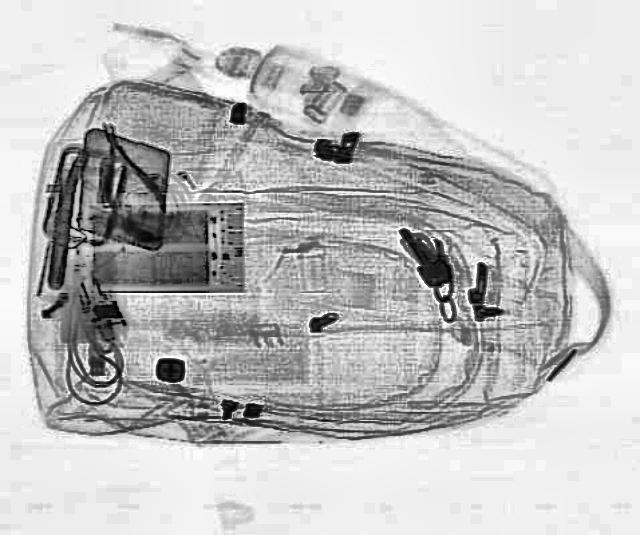Pliers: (75, 114, 168, 224)
